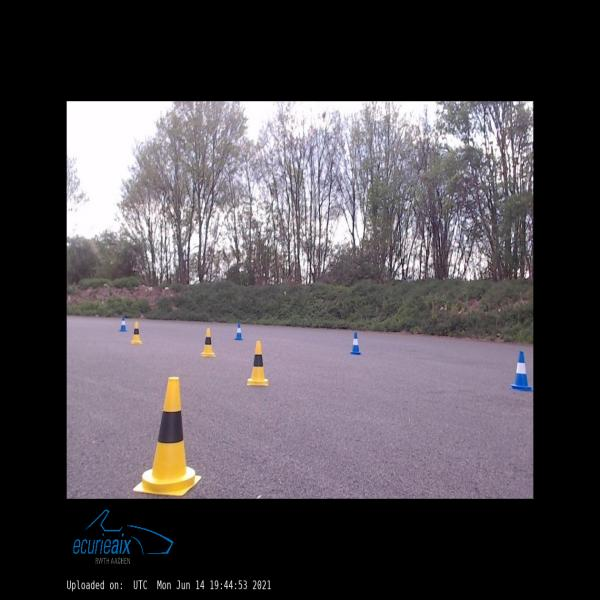blue_cone: (511, 350, 532, 390), (350, 333, 361, 354), (234, 323, 243, 340), (120, 316, 126, 331)
yellow_cone: (133, 378, 201, 496), (247, 342, 269, 386), (201, 328, 216, 357), (131, 322, 142, 344)
